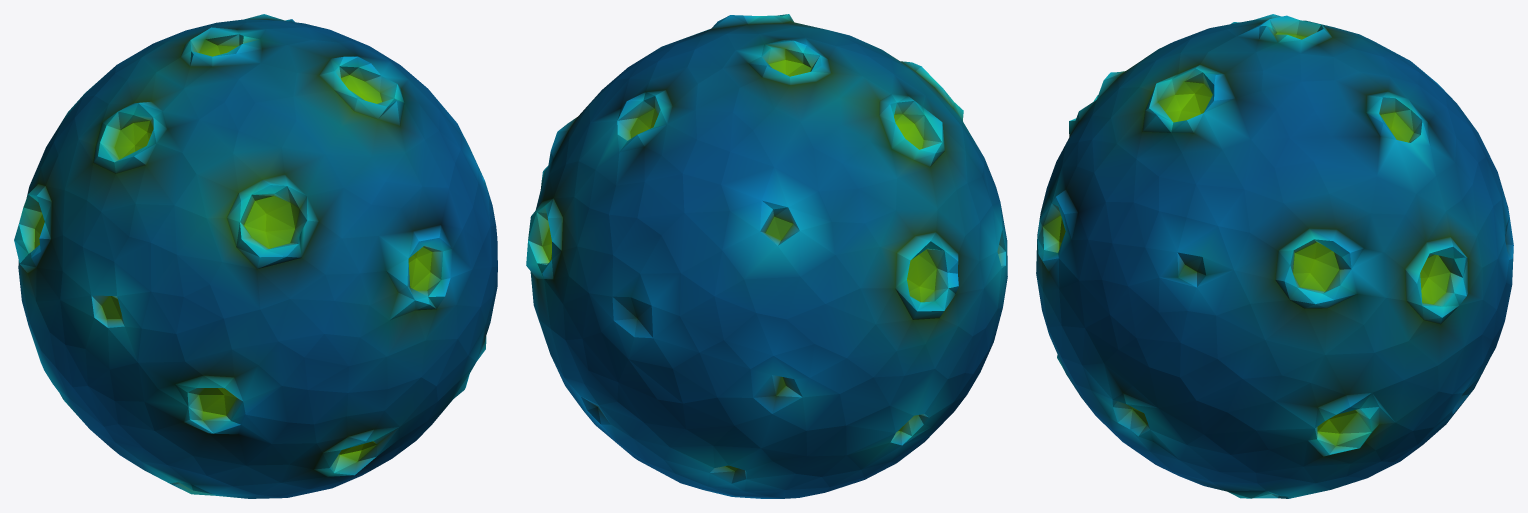
File: moon31.fbx
3 renders of one model, left to right at view 1: azimuth 30°, elevation 25°; view 2: azimuth 150°, elevation 25°; view 3: azimuth 270°, elevation 25°, orthographic.
Parts seen in each view (by area): view 1: attribblur1; view 2: attribblur1; view 3: attribblur1.
Part boxes in pixels (x1,y1,x2,y2): attribblur1: (14,14,497,498); attribblur1: (526,14,1007,498); attribblur1: (1036,14,1513,498).
Bounding box in the file's own units: 1.01 × 1.02 × 1.
